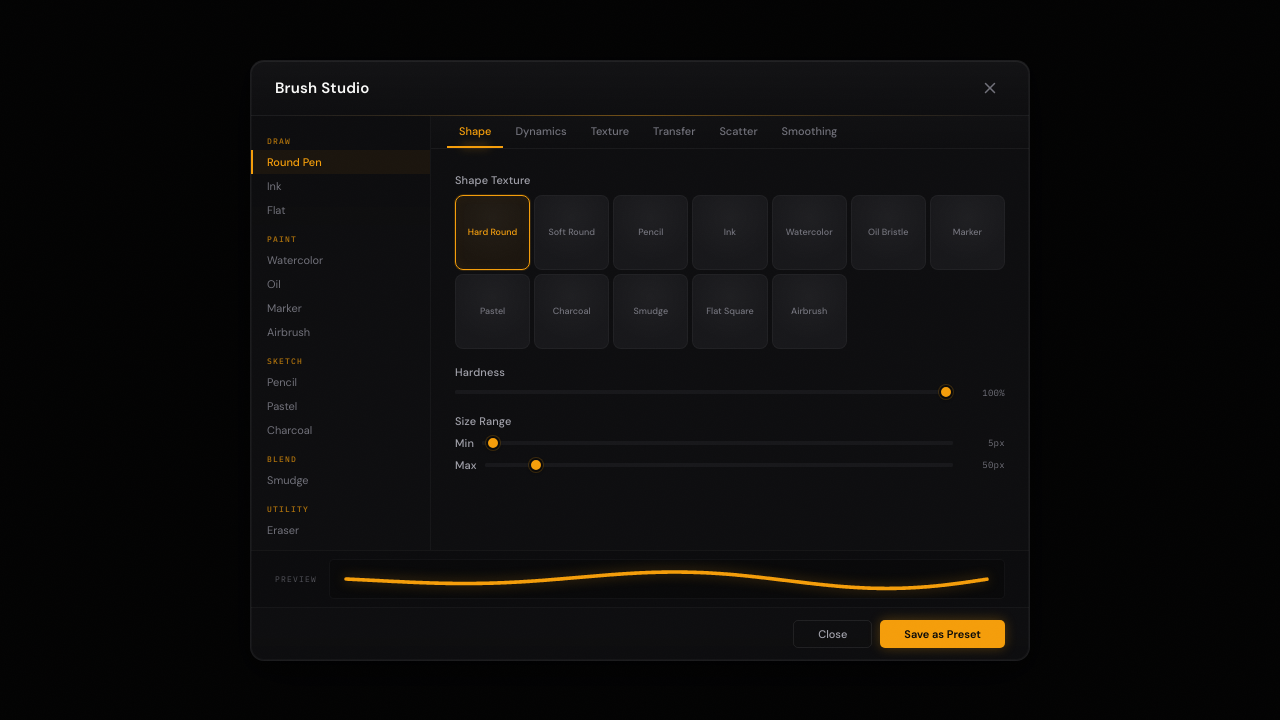
BrushStudio › opens save dialog when Save as Preset is clicked
Click the button "Save as Preset": [943, 634] box [880,620,1005,648]
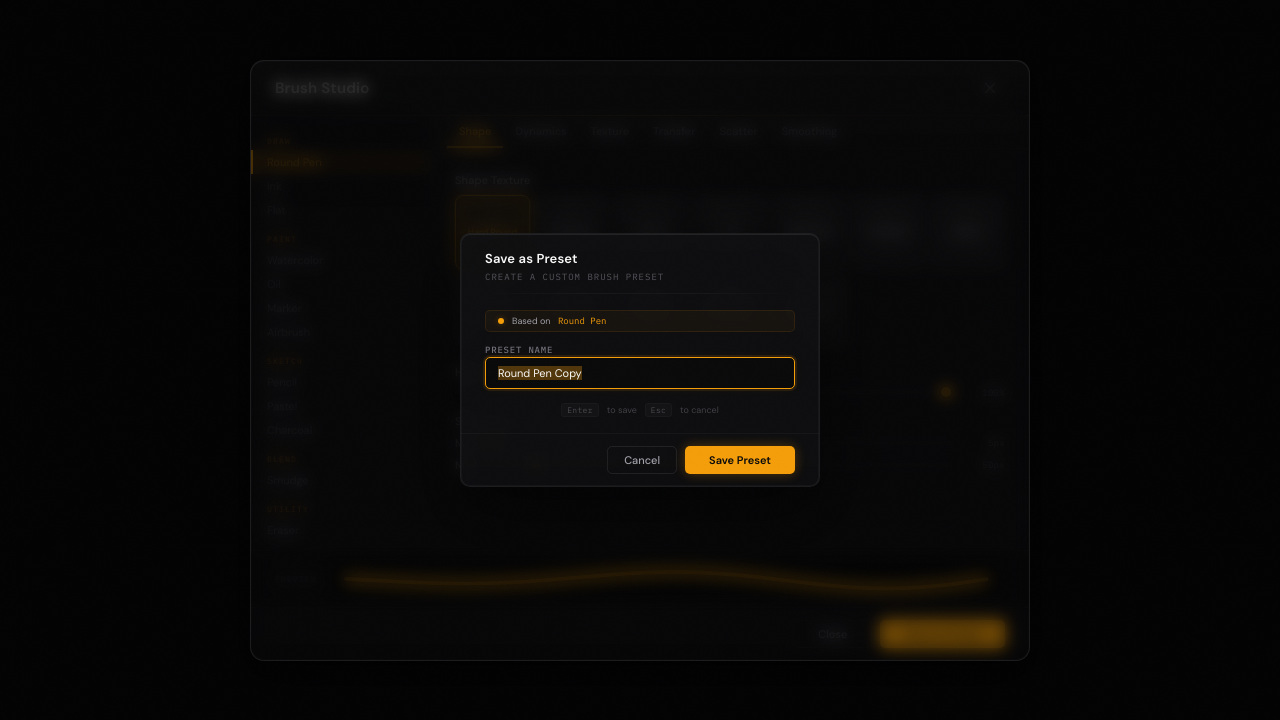
expect the field named "Preset name" is shown: met, box [485,357,795,389]
expect the button "Save Preset" is shown: met, box [685,446,795,474]
expect the button "Cancel" is shown: met, box [607,446,677,474]
